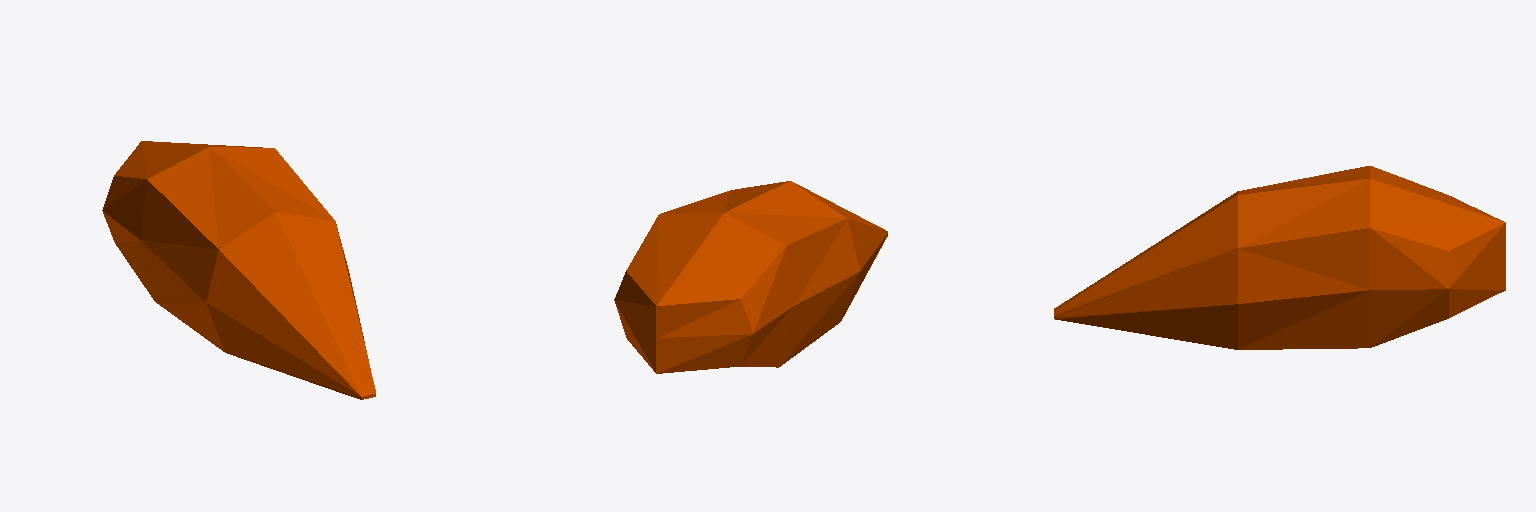
Rendered from chicken_breast_clr.obj.
3 renders of one model, left to right at view 1: azimuth 30°, elevation 25°; view 2: azimuth 150°, elevation 25°; view 3: azimuth 270°, elevation 25°, orthographic.
Parts seen in each view (by area): view 1: Chicken_Breast; view 2: Chicken_Breast; view 3: Chicken_Breast.
Part boxes in pixels (left/top/right/bottom): Chicken_Breast: left=102, top=141, right=375, bottom=399; Chicken_Breast: left=614, top=181, right=887, bottom=373; Chicken_Breast: left=1054, top=166, right=1505, bottom=349.
Bounding box in the file's own units: 3.23 × 3.33 × 8.91.